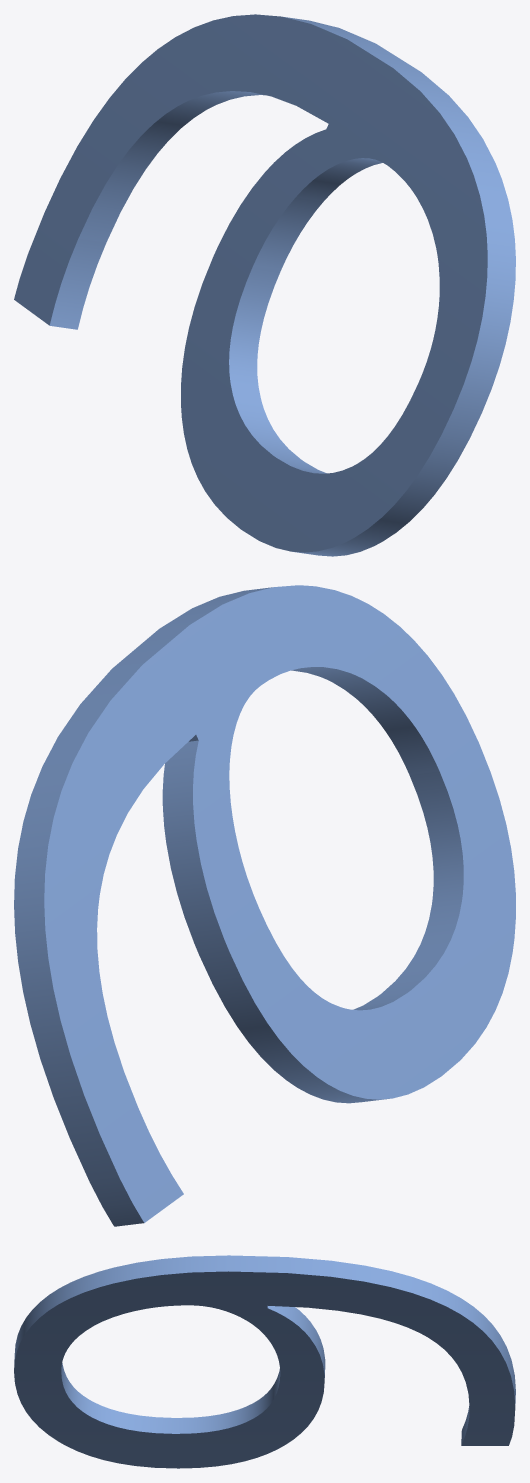
File: New_Number_9.gltf
The picture shows the model from 3 angles, top to bottom: view 1: azimuth 30°, elevation 25°; view 2: azimuth 150°, elevation 25°; view 3: azimuth 270°, elevation 25°; orthographic projection. The views are drawn at different scales.
Visible parts, largest first — view 1: Part 315; view 2: Part 315; view 3: Part 315.
Part boxes in pixels (left/top/right/bottom): Part 315: left=14, top=14, right=515, bottom=556; Part 315: left=14, top=585, right=515, bottom=1226; Part 315: left=14, top=1255, right=515, bottom=1468.
Bounding box in the file's own units: 0.00189 × 0.00331 × 0.00567.
